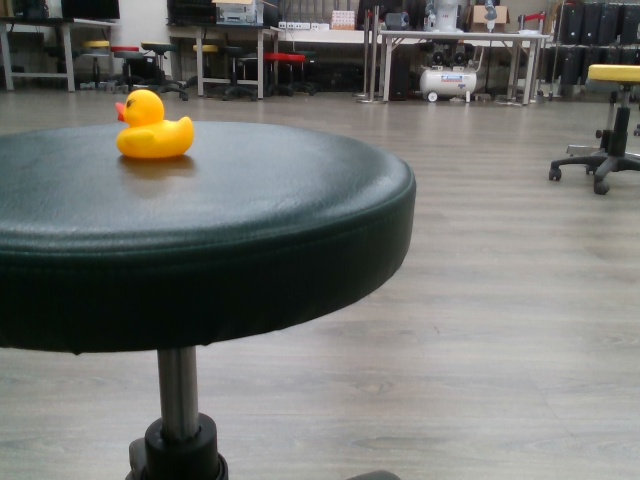duck: (110, 83, 199, 163)
